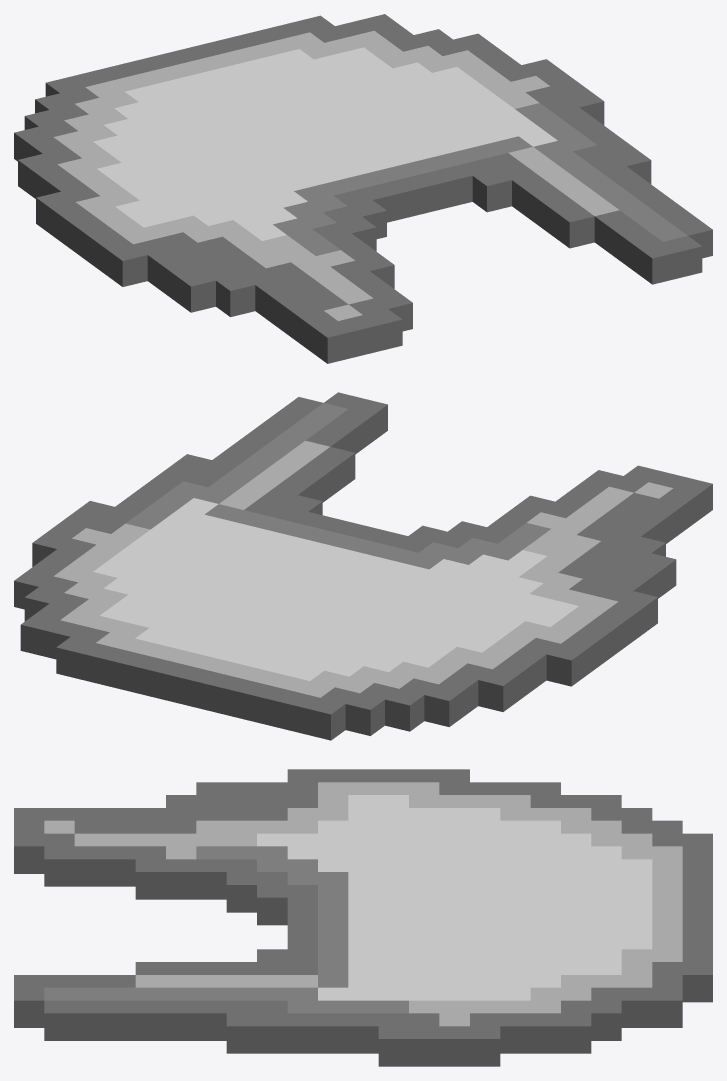
File: plastic_bag.obj
3 renders of one model, top to bottom at view 1: azimuth 30°, elevation 25°; view 2: azimuth 150°, elevation 25°; view 3: azimuth 270°, elevation 25°, orthographic. The views are drawn at different scales.
Size of the model in its own units: 2.1 by 0.1 by 2.3.
1 material, 1 textured.
